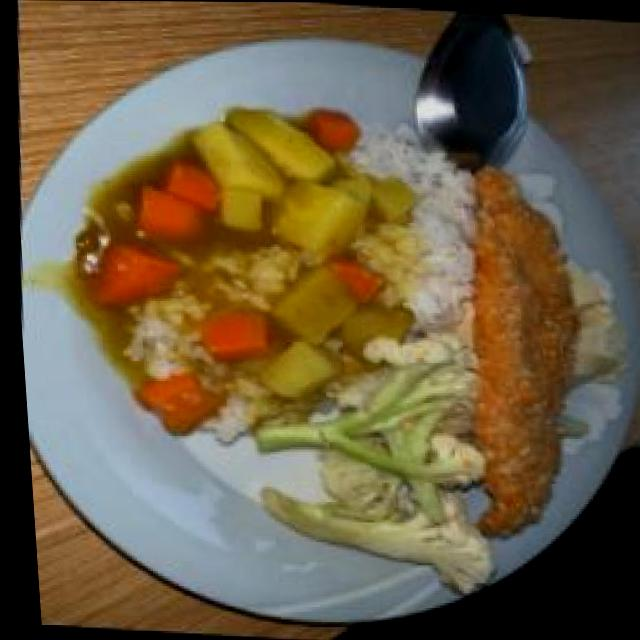curry: (50, 90, 407, 452)
fried_chicken: (441, 161, 586, 544)
